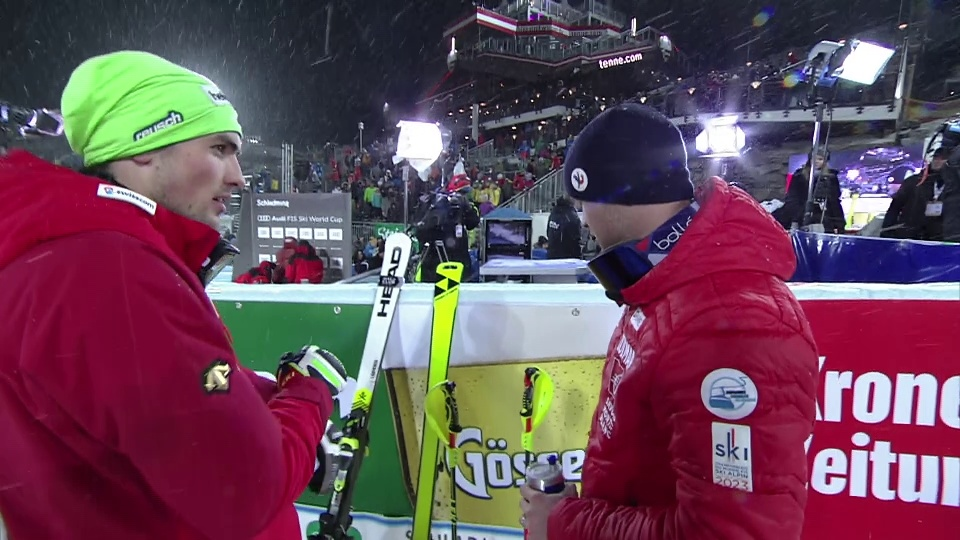goesser: (435, 385, 598, 506)
kronenzeitung: (806, 338, 959, 518)
